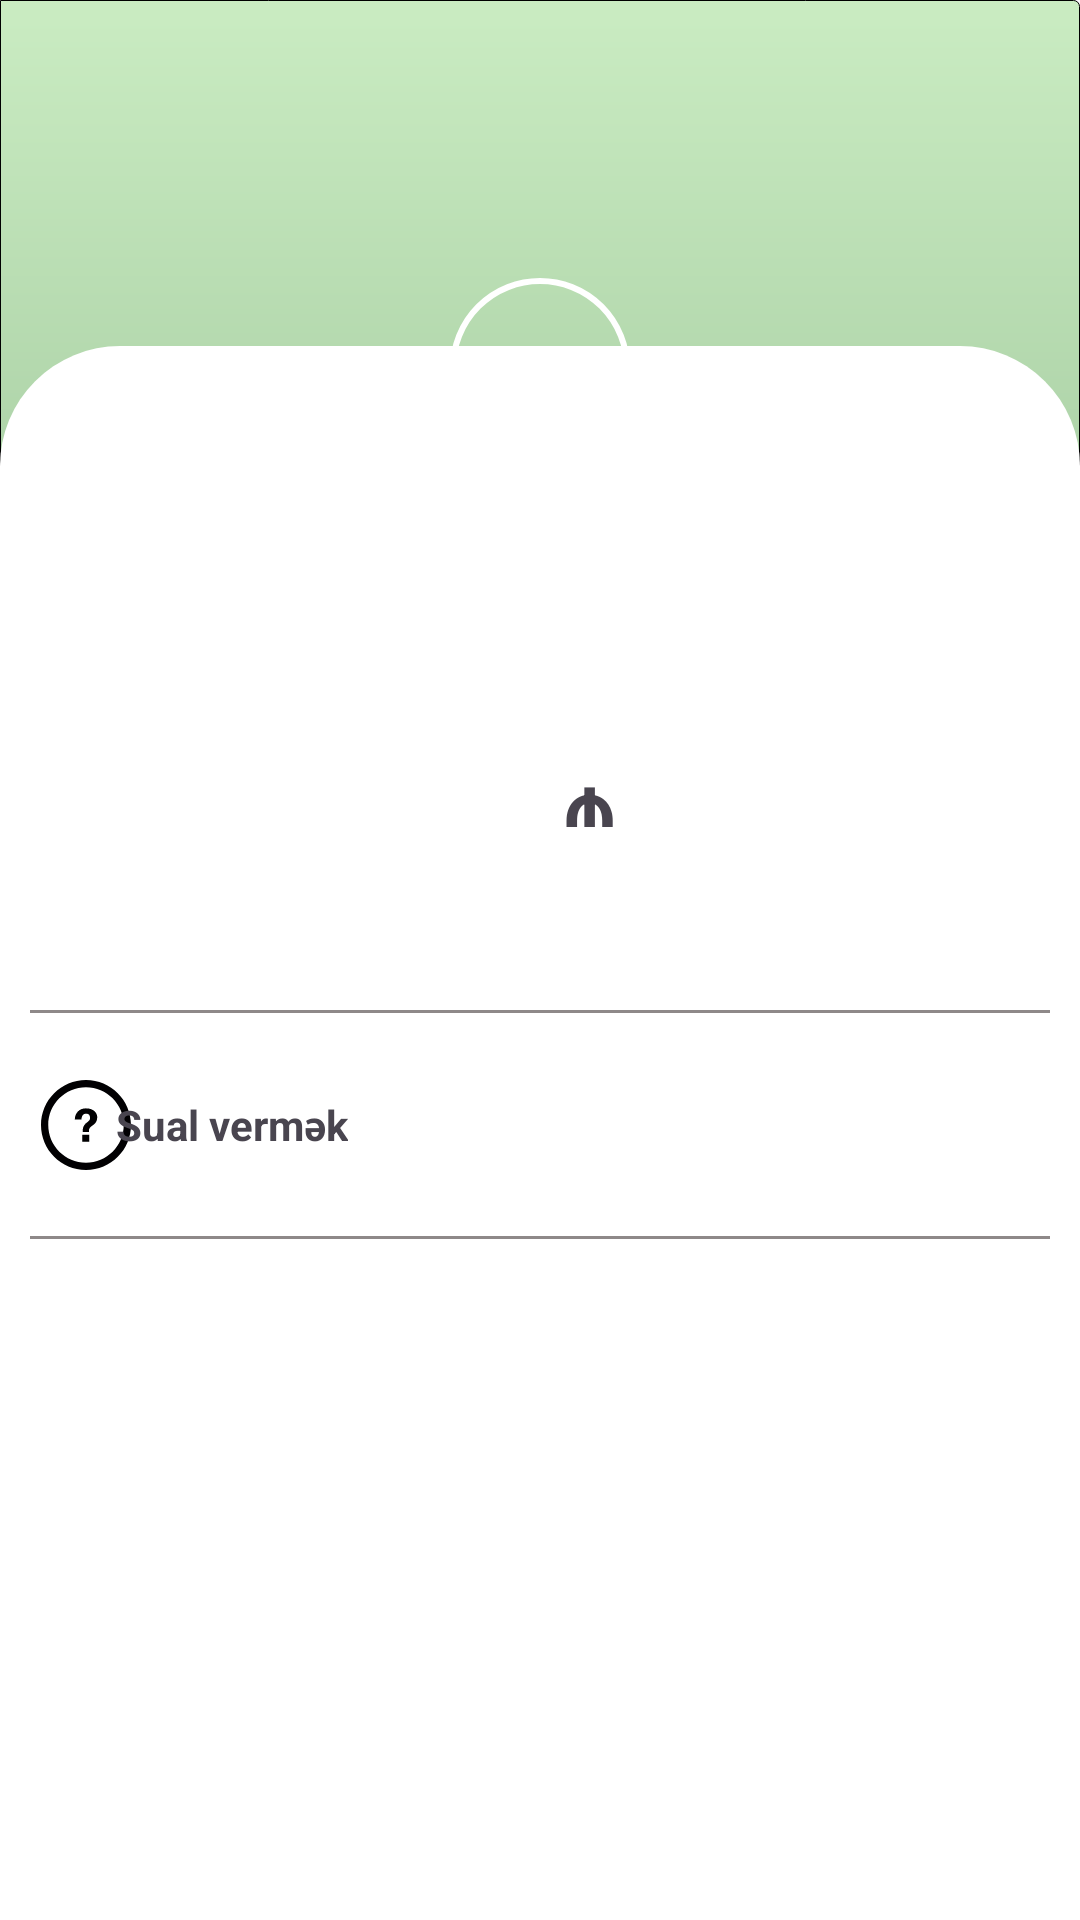

Where to tap for icons on this 1080px×1920px app screen, as (x=x, y=y):
question mark: (x=86, y=1125)
